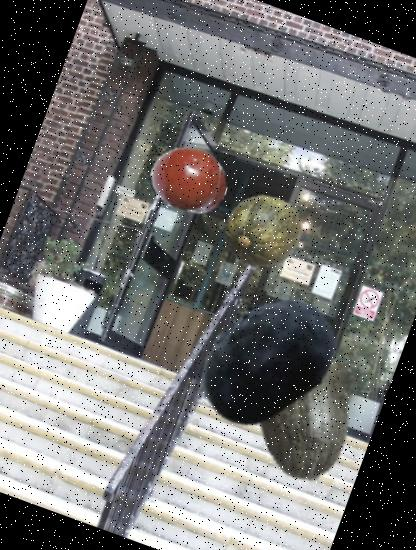Blueberry: (169, 264, 360, 454)
Cherry: (139, 128, 239, 228)
Melon: (210, 316, 396, 502), (210, 180, 314, 284)
